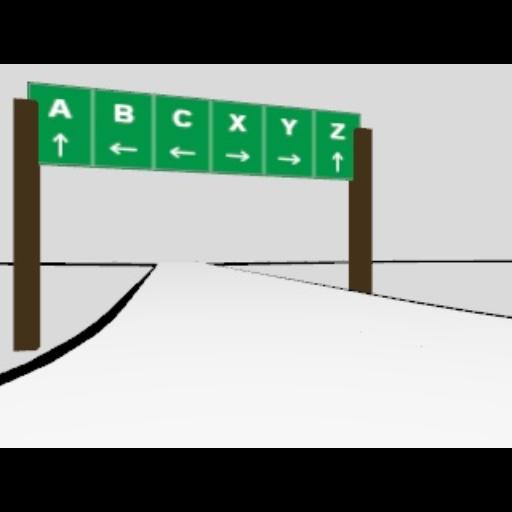A: (46, 98, 72, 118)
B: (114, 102, 134, 124)
C: (172, 108, 192, 126)
Left: (107, 142, 137, 156), (168, 146, 196, 158)
Right: (224, 148, 250, 162), (276, 152, 302, 164)
Straight: (50, 131, 68, 157), (332, 150, 342, 172)
X: (228, 112, 246, 132)
Y: (280, 116, 298, 136)
Z: (328, 121, 346, 139)
